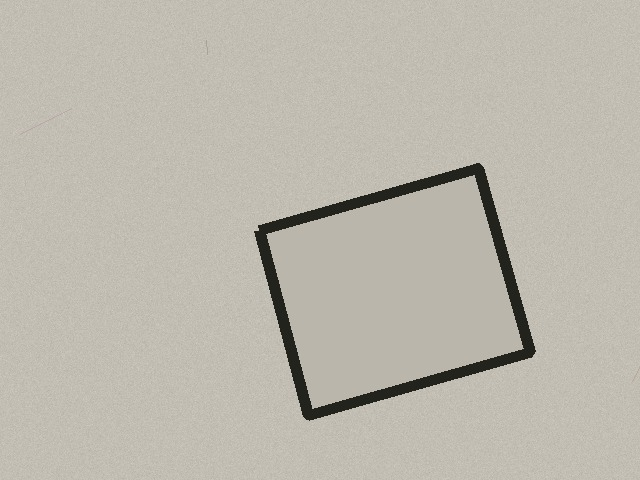parking_area: (259, 168, 530, 415)
